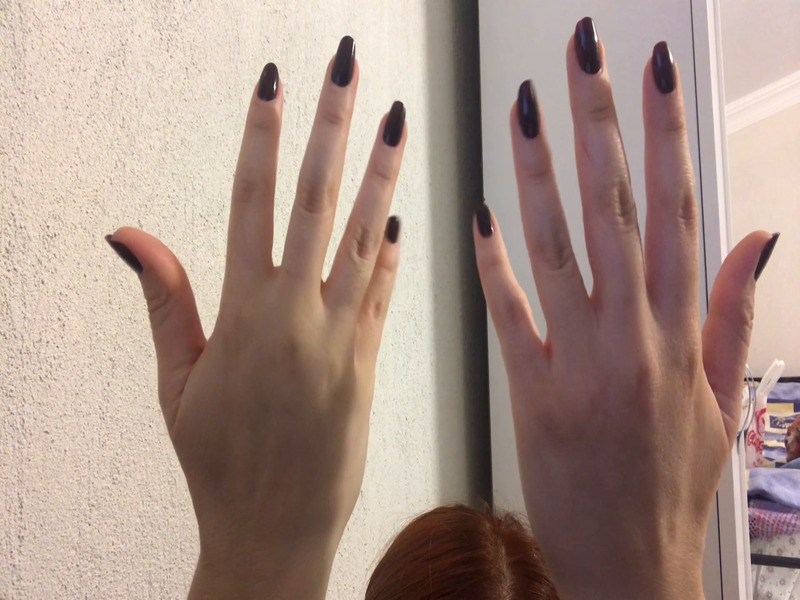hand: (459, 10, 782, 585), (100, 32, 409, 576)
